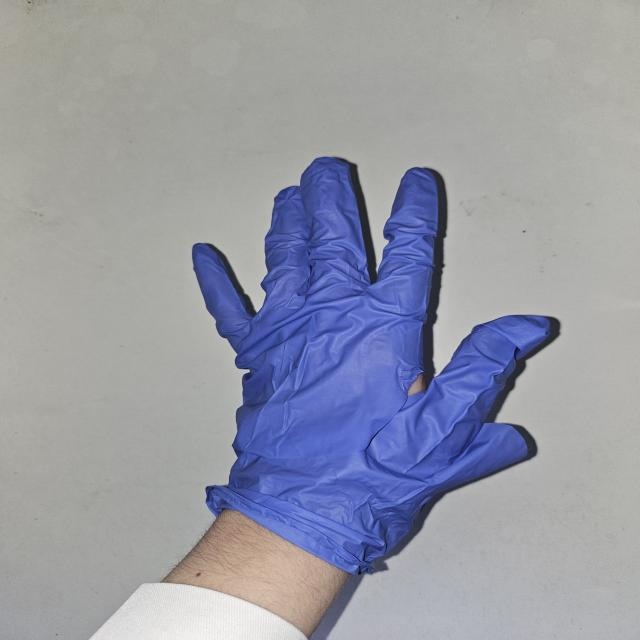gloves_damaged: (191, 157, 561, 582)
